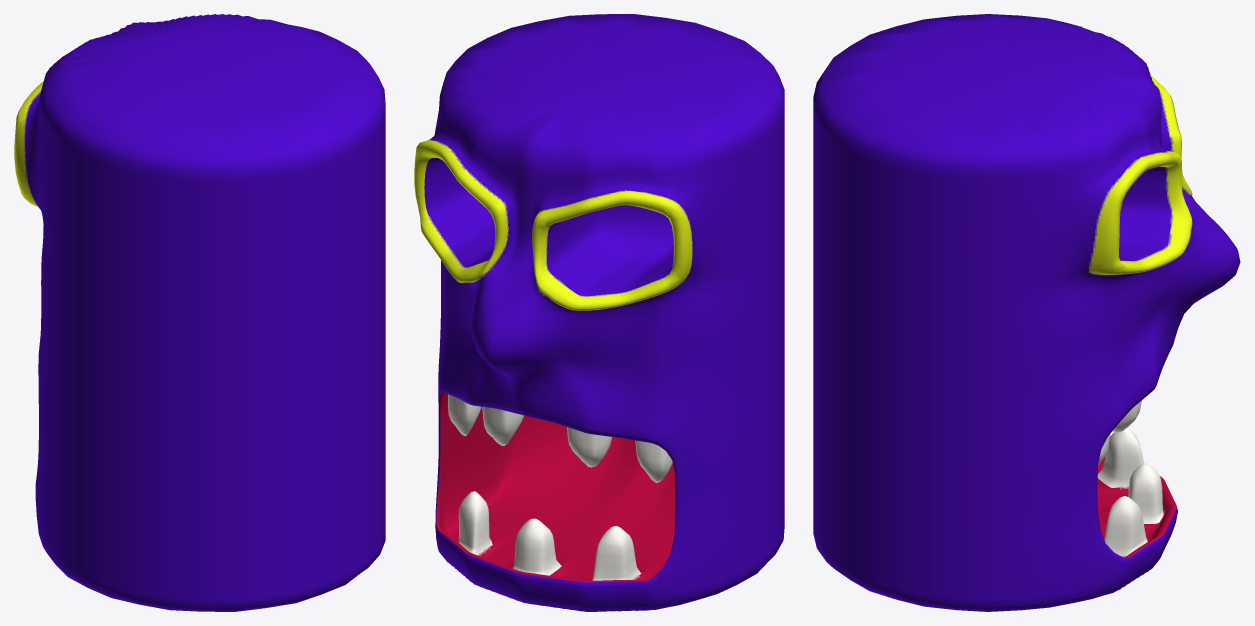
File: NewTotem3.fbx
3 renders of one model, left to right at view 1: azimuth 30°, elevation 25°; view 2: azimuth 150°, elevation 25°; view 3: azimuth 270°, elevation 25°, orthographic.
Parts seen in each view (by area): view 1: Cylinder; view 2: Cylinder; view 3: Cylinder.
Part boxes in pixels (left/top/right/bottom): Cylinder: left=14, top=14, right=385, bottom=611; Cylinder: left=414, top=14, right=784, bottom=611; Cylinder: left=813, top=14, right=1240, bottom=611.
Bounding box in the file's own units: 195 × 299 × 242.
Materials: 1 (1 with a texture image).
